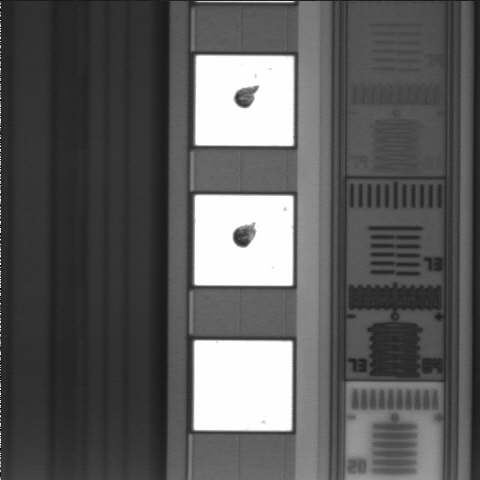pad: (195, 55, 294, 146), (194, 195, 293, 286), (194, 340, 292, 431)
